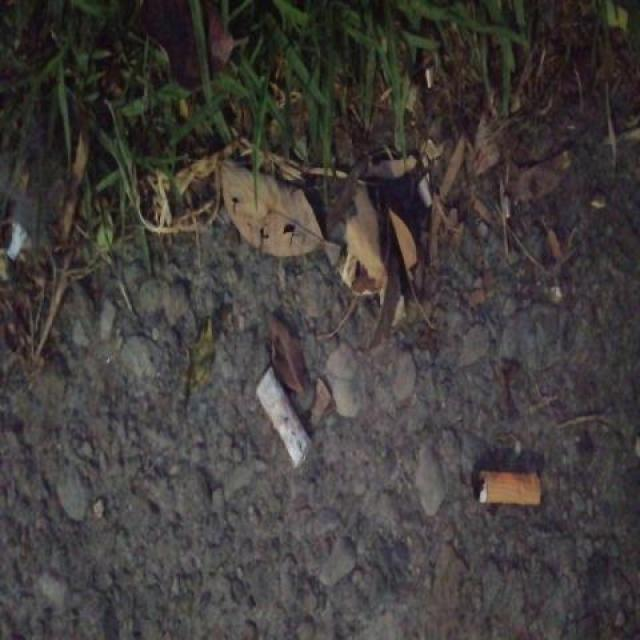non-organic waste: (250, 360, 318, 472), (468, 464, 548, 513)
